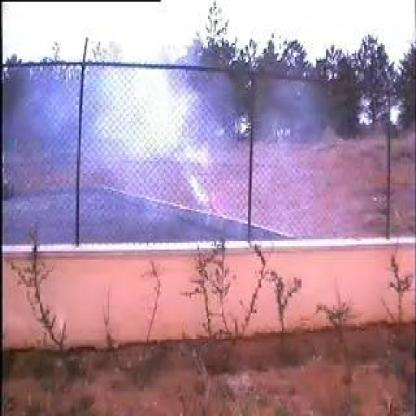-: (20, 67, 232, 237)
